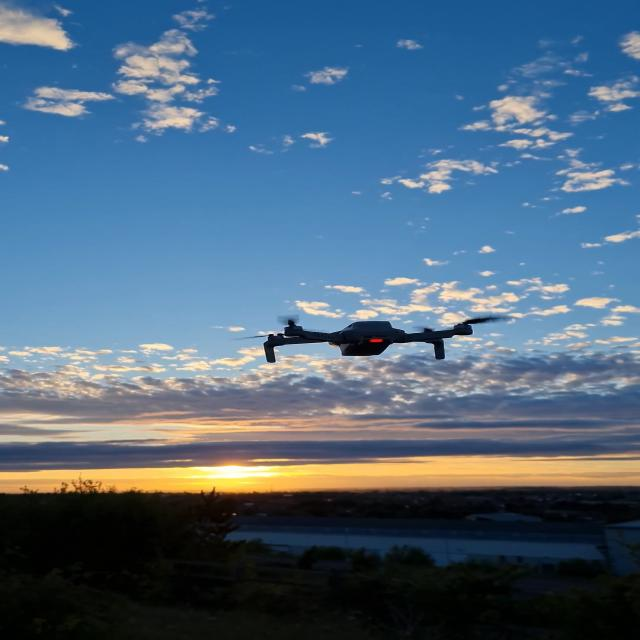Drone: (236, 304, 503, 399)
